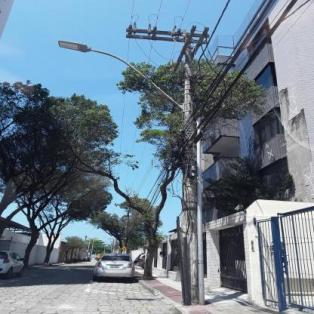Poste: (175, 25, 209, 308)
